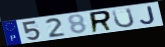2: (44, 17, 67, 39)
5: (21, 19, 42, 41)
8: (67, 14, 90, 36)
J: (140, 5, 157, 25)
R: (89, 10, 114, 34)
U: (111, 7, 136, 29)
